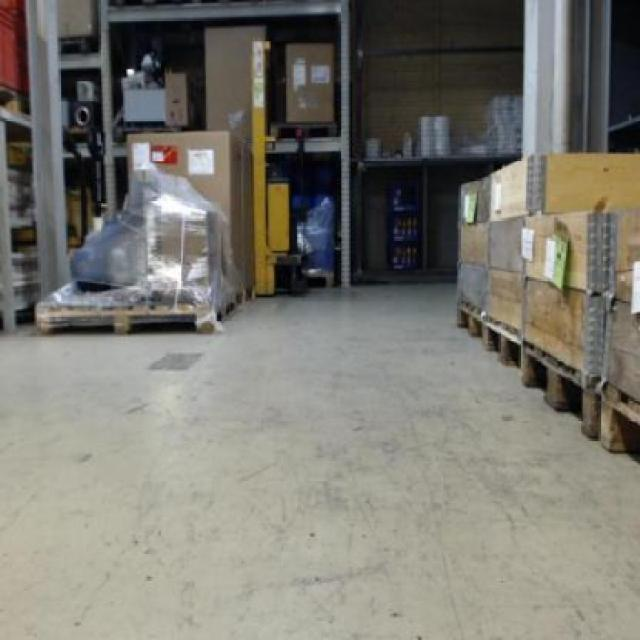ground: (0, 277, 638, 638)
pallet: (33, 279, 256, 340), (516, 332, 603, 443), (597, 381, 638, 473), (479, 313, 524, 378), (452, 294, 489, 344), (0, 77, 32, 122), (268, 119, 341, 138), (107, 126, 186, 143), (302, 267, 338, 289), (56, 36, 97, 55)
